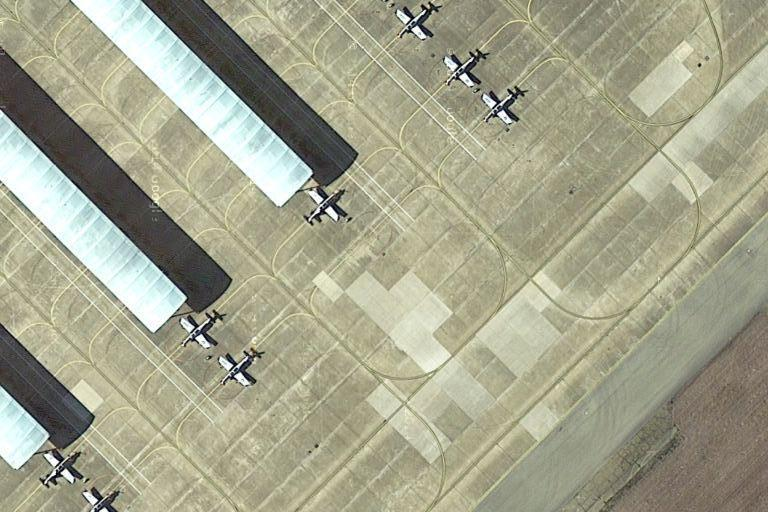plane: (178, 309, 224, 353), (215, 347, 258, 392), (441, 47, 484, 91), (35, 448, 82, 488), (302, 186, 345, 229), (480, 86, 524, 127), (395, 3, 437, 42)
